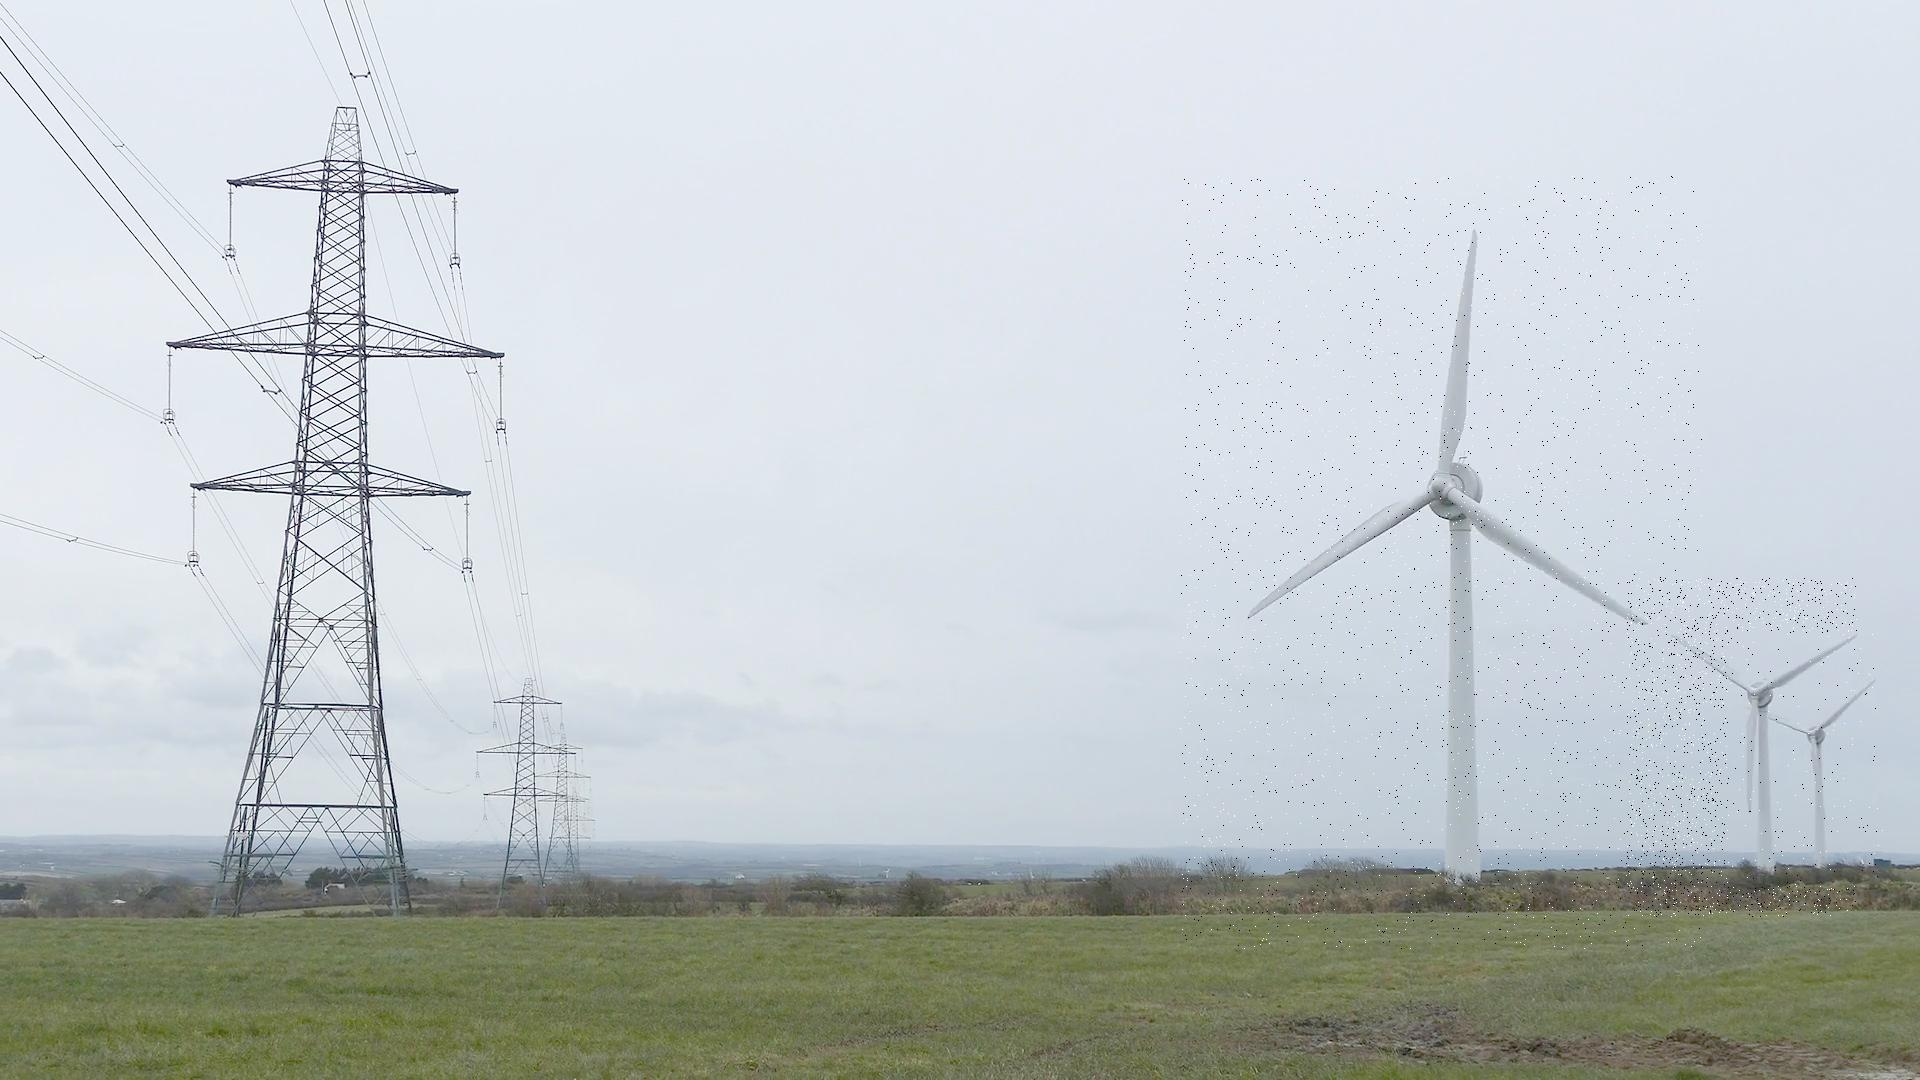cable tower: (162, 102, 508, 923), (473, 676, 566, 919), (533, 735, 583, 884), (553, 793, 597, 884)
turbine: (1180, 175, 1702, 949), (1627, 579, 1857, 918), (1727, 633, 1883, 887)
